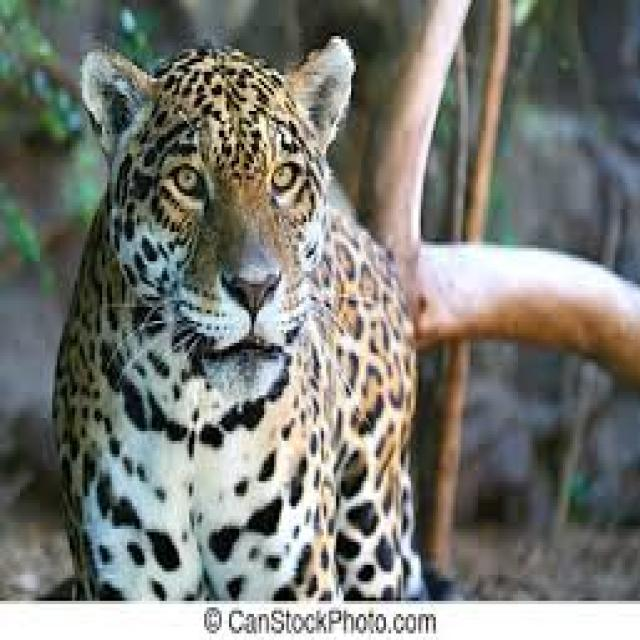Jaguar: (42, 42, 444, 598)
